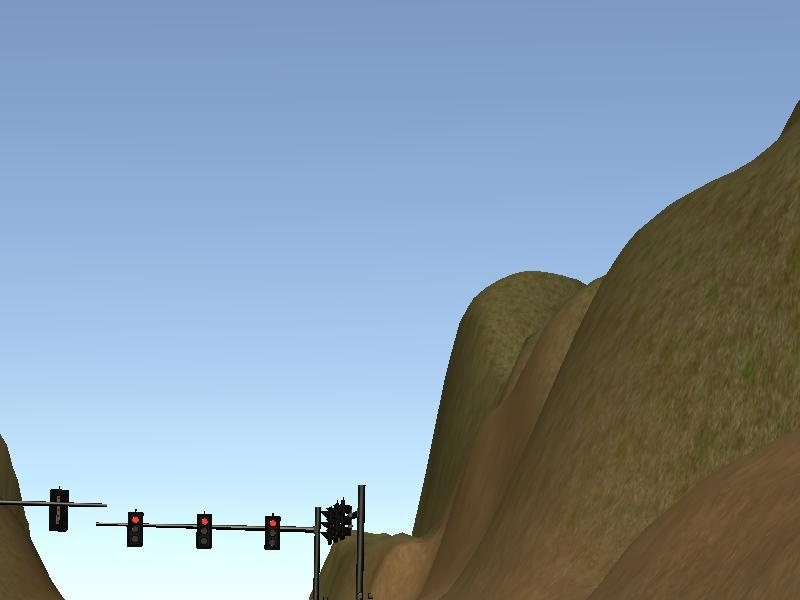red: (127, 511, 144, 548), (264, 513, 280, 549), (197, 513, 213, 548)
